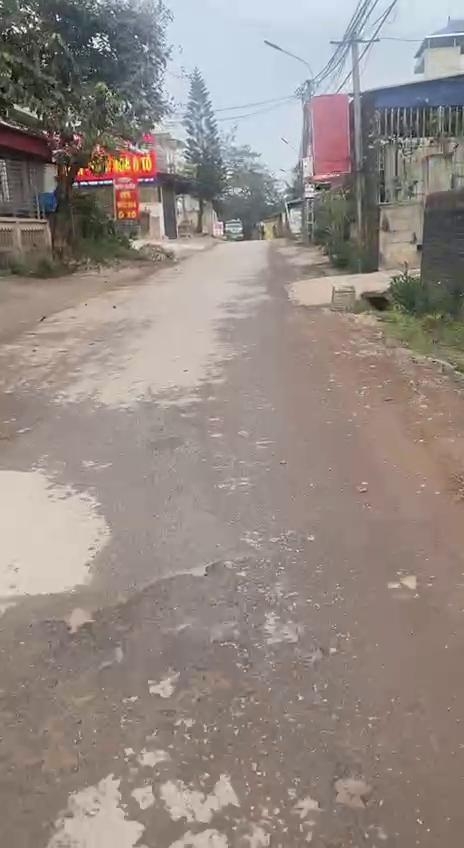pothole: (329, 768, 377, 818), (255, 607, 306, 648), (141, 664, 181, 704), (62, 603, 96, 636)
